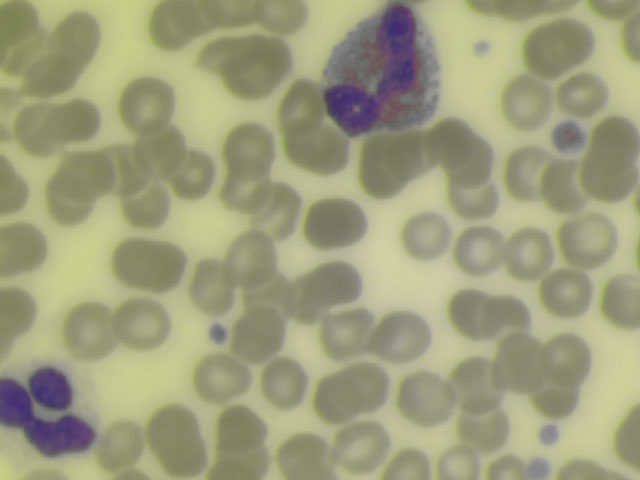Platelets: (551, 118, 588, 157), (536, 421, 562, 448), (205, 320, 229, 348), (526, 455, 551, 480), (470, 36, 493, 62)
RBC: (227, 38, 287, 93), (307, 199, 368, 248), (320, 306, 373, 359), (189, 262, 232, 318), (281, 430, 329, 480), (160, 429, 206, 480), (403, 211, 449, 261), (566, 214, 612, 264), (459, 403, 505, 453), (453, 361, 499, 411), (532, 367, 578, 417), (544, 335, 590, 385), (497, 339, 543, 389), (483, 294, 529, 344), (446, 286, 492, 336), (345, 365, 391, 415), (310, 375, 356, 425), (404, 373, 450, 423), (337, 423, 383, 473), (221, 404, 267, 454), (149, 405, 195, 455), (95, 420, 141, 470), (263, 361, 309, 411), (195, 352, 241, 402), (379, 311, 425, 361), (315, 255, 361, 305), (282, 275, 328, 325), (245, 269, 291, 319), (234, 312, 280, 362), (229, 234, 275, 284), (121, 298, 167, 348), (64, 305, 110, 355), (135, 241, 181, 291), (254, 184, 300, 234), (223, 161, 269, 211), (94, 141, 140, 191), (125, 181, 171, 231), (173, 148, 219, 198), (136, 129, 182, 179), (50, 175, 96, 225), (223, 122, 269, 172), (125, 80, 171, 130), (14, 104, 60, 154), (6, 25, 52, 75), (24, 47, 70, 97), (56, 10, 102, 60), (504, 79, 550, 129), (517, 25, 563, 75), (550, 14, 596, 64), (456, 225, 502, 275), (509, 226, 555, 276), (545, 269, 591, 319), (291, 122, 337, 172), (277, 78, 323, 128), (428, 117, 474, 167), (356, 141, 402, 191), (508, 148, 554, 198), (543, 157, 589, 207), (588, 151, 634, 201), (594, 117, 640, 167), (562, 68, 608, 118), (450, 167, 496, 217), (445, 132, 491, 182), (63, 152, 111, 199), (147, 1, 193, 50), (53, 97, 105, 140), (603, 267, 640, 327), (1, 289, 45, 339), (1, 222, 45, 272), (209, 445, 271, 480), (609, 407, 640, 476), (112, 232, 149, 288), (394, 131, 436, 180), (204, 1, 265, 32), (1, 90, 32, 143), (437, 446, 485, 480), (388, 445, 434, 480), (1, 1, 35, 48), (170, 1, 214, 37), (1, 159, 31, 209), (260, 1, 305, 32), (484, 447, 525, 480), (592, 1, 638, 26)
WBC: (323, 2, 444, 131), (1, 358, 101, 459)
